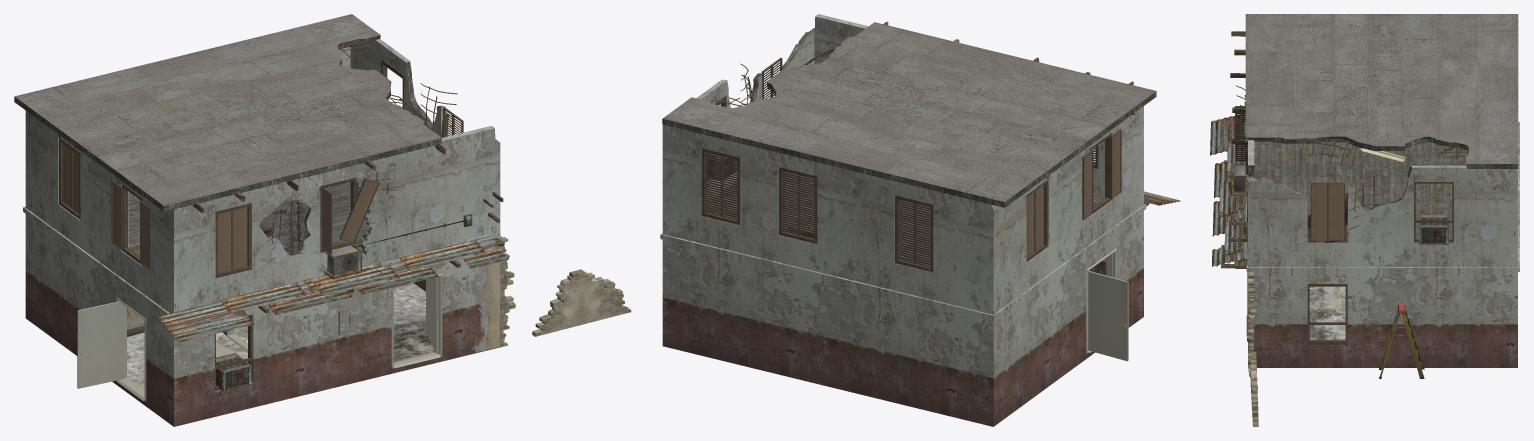
The picture shows the model from 3 angles, left to right: view 1: azimuth 30°, elevation 25°; view 2: azimuth 150°, elevation 25°; view 3: azimuth 270°, elevation 25°; orthographic projection. The views are drawn at different scales.
Parts seen in each view (by area): view 1: roof, outsidewall2, outsidewall, metalroof, firstfloor, door3, Boole, frame, insidewall2, dical2, brockenbricks, floor (+18 smaller); view 2: outsidewall, roof, outsidewall2, frame, insidewall2, Boole, door3, Cube_8, floor, Cube, Cube_2, Cube_3 (+8 smaller); view 3: roof, outsidewall, outsidewall2, floor, metalroof, Boole, firstfloor, Cube_8, frame, piece_29, piece_30, woodbrackets (+9 smaller).
Part boxes in pixels (x1,y1,x2,y2): roof: (14,14,441,205); outsidewall2: (25,111,500,313); outsidewall: (25,214,500,426); metalroof: (158,234,508,342); firstfloor: (127,282,435,389); door3: (77,301,124,388); Boole: (14,35,498,254); frame: (59,59,448,391); insidewall2: (58,39,494,278); dical2: (470,246,499,352); brockenbricks: (532,270,582,336); floor: (128,182,368,255); outsidewall: (662,211,1143,426); roof: (663,22,1155,201); outsidewall2: (662,106,1143,314); frame: (701,90,1111,273); insidewall2: (696,14,1112,272); Boole: (662,28,1156,207); door3: (1088,271,1128,361); Cube_8: (660,204,1146,320); floor: (707,172,1104,265); Cube: (705,152,721,216); Cube_2: (782,171,798,235); Cube_3: (898,199,914,263); roof: (1245,14,1518,163); outsidewall: (1248,272,1517,367); outsidewall2: (1248,167,1517,267); floor: (1254,141,1468,238); metalroof: (1210,114,1247,266); Boole: (1245,136,1518,210); firstfloor: (1309,286,1345,339); Cube_8: (1246,122,1519,271); frame: (1307,182,1453,344); piece_29: (1327,182,1344,240); piece_30: (1310,182,1327,240); woodbrackets: (1221,31,1247,268).
Bounding box in the file's own units: 631 × 271 × 372.
Materials: 30 (30 with a texture image).
